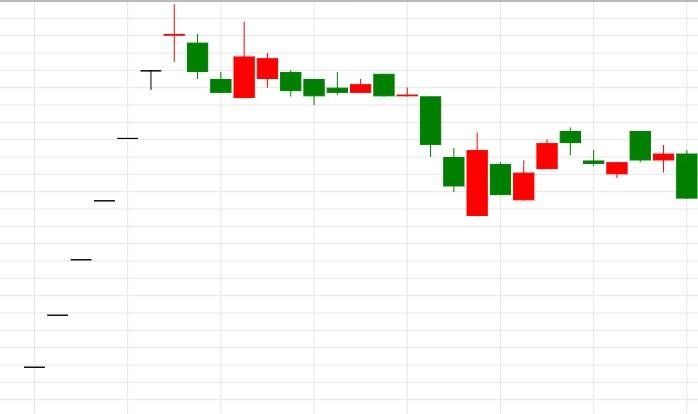bullish_engulfing_rise: (233, 21, 488, 217), (163, 3, 256, 99)
